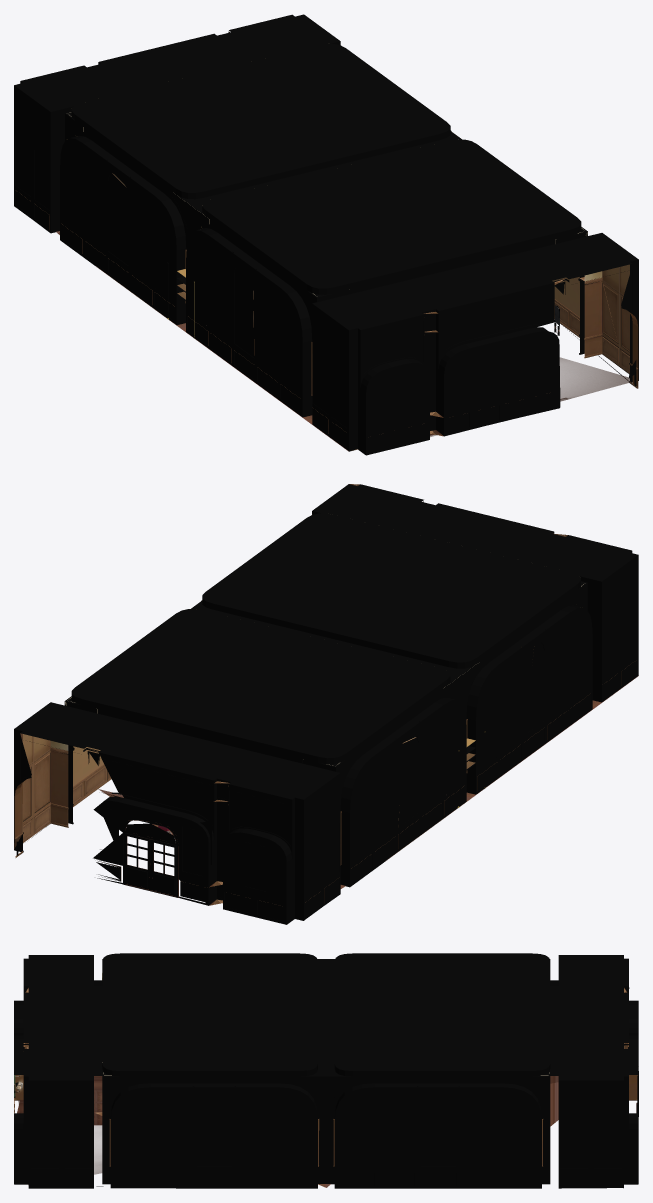
The model's file is casino-edited-nodrac.glb.
3 views of the same model, one above another, from view 1: azimuth 30°, elevation 25°; view 2: azimuth 150°, elevation 25°; view 3: azimuth 270°, elevation 25° (orthographic). The views are drawn at different scales.
Parts seen in each view (by area): view 1: Material2, Material3 (×3); view 2: Material2, Material3 (×2); view 3: Material2, Material3 (×3).
Boxes of the visible parts, left/top/right/bottom form: Material2: left=14, top=14, right=638, bottom=455; Material3 (×3): left=21, top=112, right=638, bottom=451; Material2: left=14, top=484, right=638, bottom=924; Material3 (×2): left=14, top=484, right=638, bottom=905; Material2: left=14, top=953, right=638, bottom=1188; Material3 (×3): left=14, top=973, right=637, bottom=1187.
Bounding box in the file's own units: 485 × 203 × 1017.
12 materials, 11 textured.
